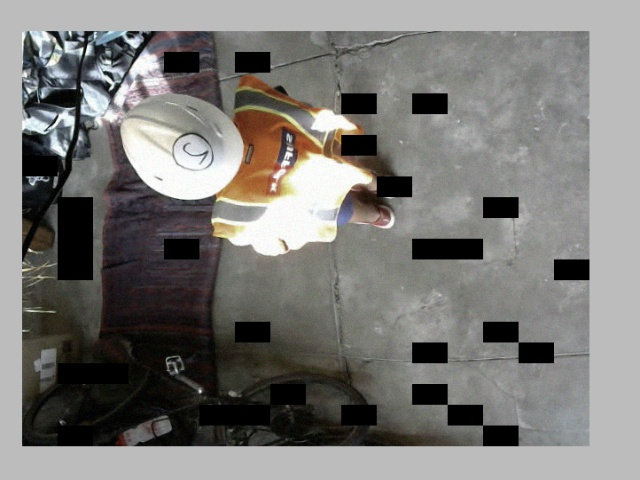two: (167, 132, 213, 172)
